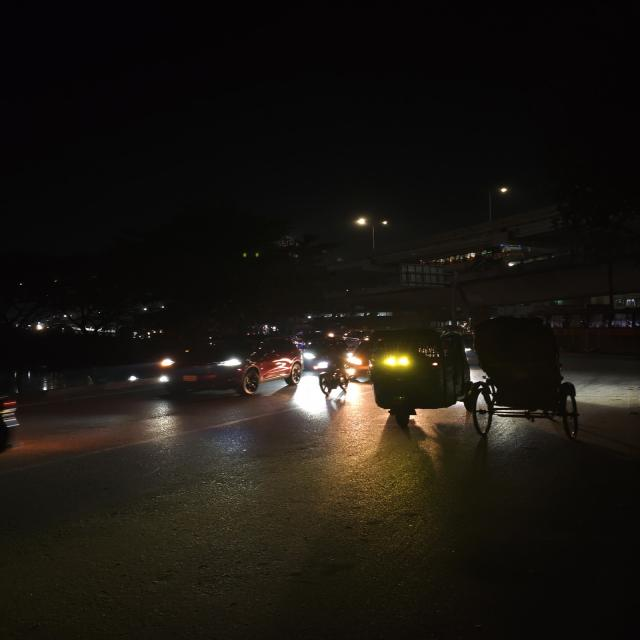car: (153, 334, 304, 404)
cng: (370, 325, 460, 434)
motorcycle: (314, 338, 357, 405)
rickshaw: (453, 315, 588, 445)
